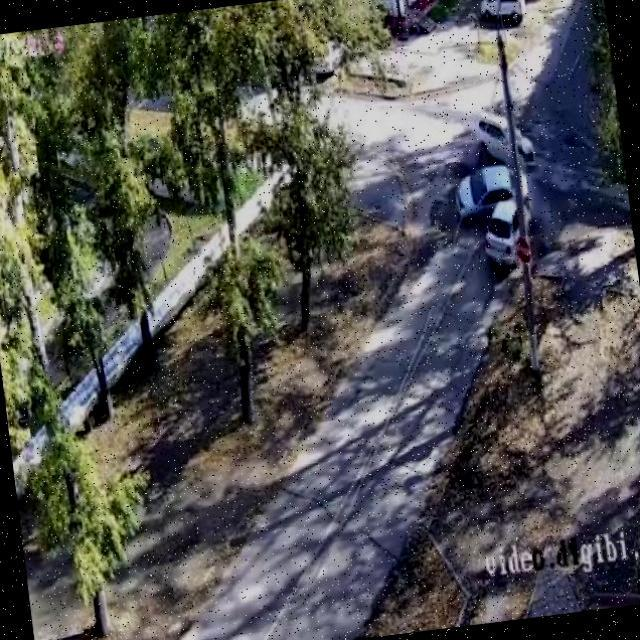accident: (480, 163, 538, 249)
